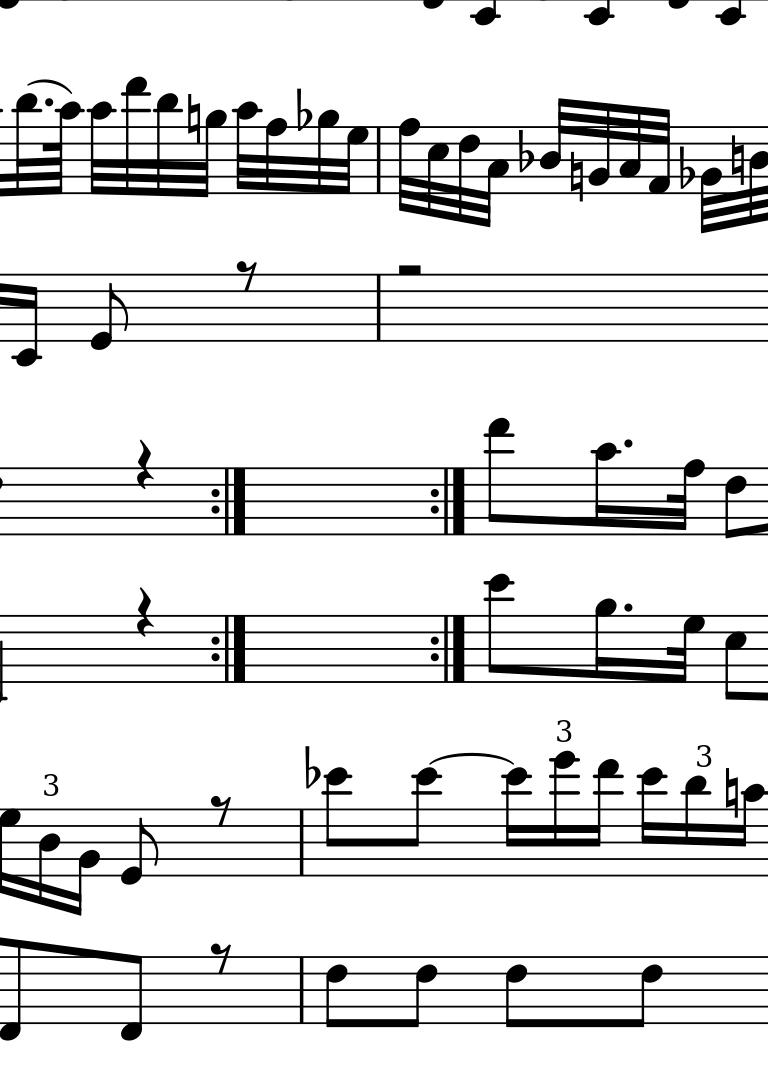16_-2: (13, 273, 39, 368)
16_10: (738, 781, 768, 879), (593, 441, 621, 536)
16_11: (683, 775, 709, 879)
16_12: (503, 767, 531, 878), (639, 766, 666, 878)
16_13: (587, 758, 624, 879)
16_14: (551, 750, 579, 879)
16_2: (68, 808, 101, 918)
16_4: (36, 807, 62, 909)
16_9: (595, 594, 617, 684)
3: (42, 772, 60, 799), (555, 718, 572, 744), (695, 743, 712, 769)
32_1: (646, 106, 671, 196)
32_10: (234, 99, 261, 195), (88, 99, 114, 196)
32_11: (14, 91, 42, 197), (154, 93, 178, 198)
32_13: (122, 76, 148, 198)
32_2: (698, 124, 725, 236), (587, 102, 611, 195)
32_3: (480, 124, 512, 229), (618, 104, 643, 195)
32_4: (537, 96, 571, 195), (747, 123, 768, 228)
32_5: (426, 126, 451, 218)
32_6: (456, 124, 480, 224)
32_7: (667, 614, 706, 683), (343, 126, 367, 195)
32_8: (671, 459, 707, 535), (397, 116, 422, 216), (263, 117, 288, 196)
32_9: (197, 108, 228, 199), (316, 109, 340, 195)
64_10: (43, 101, 83, 196)
8_-1: (118, 953, 144, 1043), (1, 938, 23, 1041)
8_0: (118, 806, 160, 887), (89, 273, 130, 350)
8_12: (402, 767, 443, 880), (486, 573, 515, 684), (322, 767, 349, 879)
8_13: (485, 418, 512, 538)
8_6: (628, 955, 665, 1027), (407, 955, 439, 1030), (723, 612, 747, 701), (505, 955, 529, 1029), (325, 955, 347, 1029), (724, 467, 746, 539)
Flat: (515, 125, 535, 171), (294, 87, 312, 133), (679, 146, 696, 193), (304, 746, 321, 789)
Natural: (186, 90, 201, 144), (570, 151, 584, 203), (730, 133, 744, 184), (724, 767, 738, 818)
Rests1: (396, 260, 425, 282)
Rests4: (134, 439, 155, 489), (135, 587, 154, 638)
Rests8: (209, 941, 232, 973), (235, 259, 257, 291), (210, 795, 231, 827)
RightRepeatSign: (207, 465, 250, 535), (208, 616, 251, 682), (428, 615, 465, 683), (430, 466, 466, 535)
Single_barline: (292, 957, 312, 1023), (369, 276, 388, 341), (292, 810, 311, 874), (369, 127, 387, 194)
Slur: (426, 753, 514, 765), (27, 77, 71, 95)
dot: (619, 600, 635, 617), (619, 437, 636, 453), (41, 96, 55, 108)
